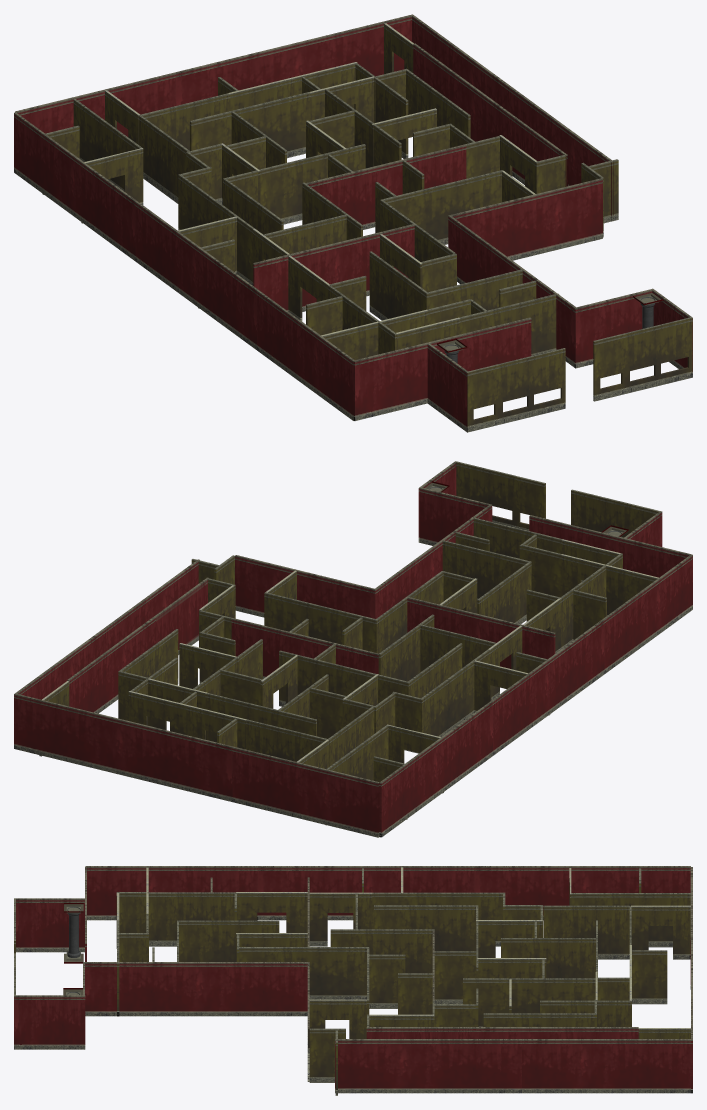
File: Palace_1.fbx
3 renders of one model, top to bottom at view 1: azimuth 30°, elevation 25°; view 2: azimuth 150°, elevation 25°; view 3: azimuth 270°, elevation 25°, orthographic. The views are drawn at different scales.
Visible parts, largest first — view 1: Walls1; view 2: Walls1; view 3: Walls1.
Part boxes in pixels (box(x1,y1,x2,y2)): Walls1: box(14, 14, 692, 432); Walls1: box(14, 461, 692, 837); Walls1: box(14, 866, 692, 1095).
Bounding box in the file's own units: 385 × 55.43 × 627.
